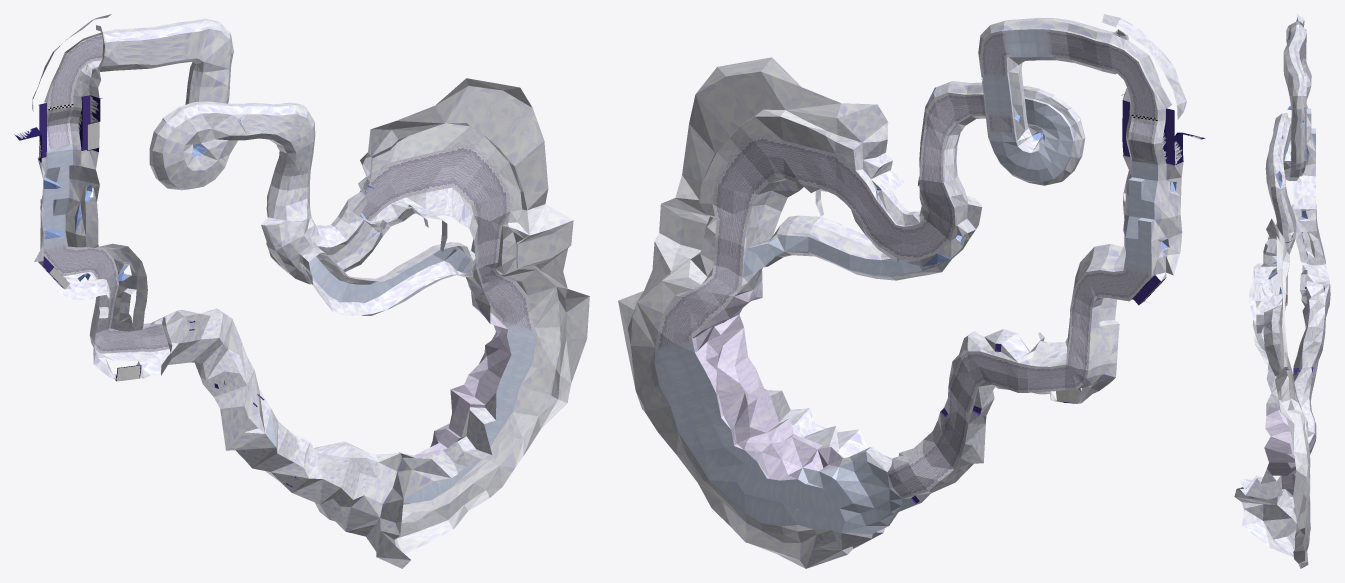
The model's file is TRACK.GDB.obj.
3 renders of one model, left to right at view 1: azimuth 30°, elevation 25°; view 2: azimuth 150°, elevation 25°; view 3: azimuth 270°, elevation 25°, orthographic. The views are drawn at different scales.
Bounding box in the file's own units: 1595 × 1632 × 325.
15 materials, 14 textured.
